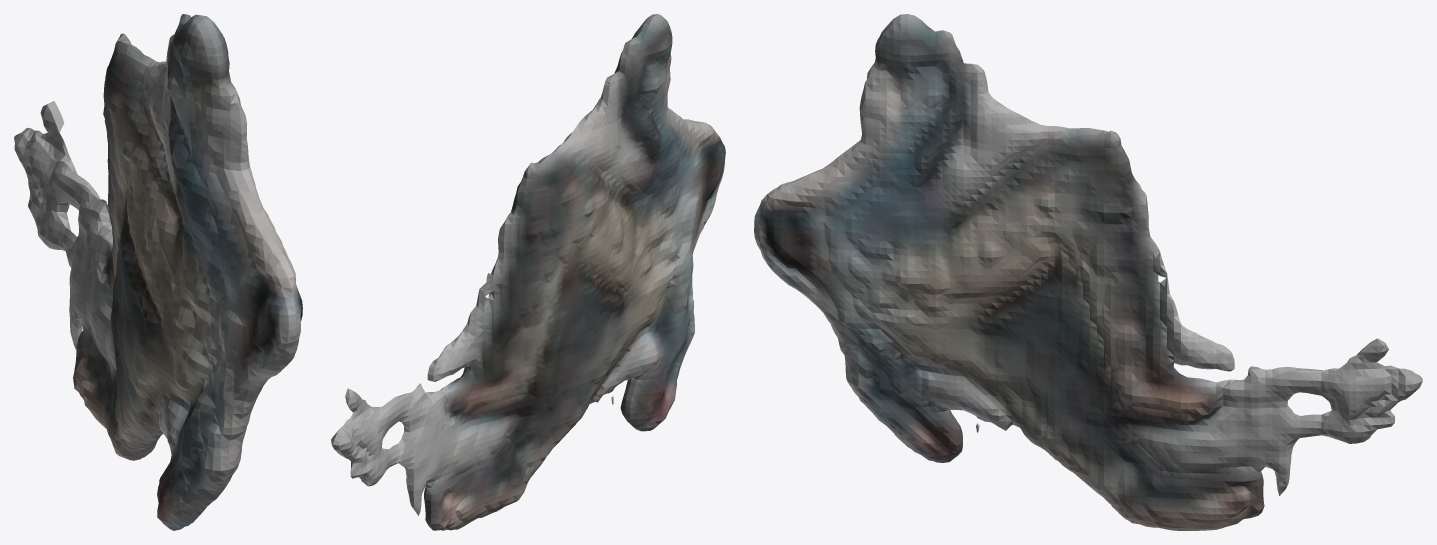
The picture shows the model from 3 angles, left to right: view 1: azimuth 30°, elevation 25°; view 2: azimuth 150°, elevation 25°; view 3: azimuth 270°, elevation 25°; orthographic projection. The views are drawn at different scales.
Visible parts, largest first — view 1: mesh.obj; view 2: mesh.obj; view 3: mesh.obj.
Part boxes in pixels (x1,y1,x2,y2): mesh.obj: (14,14,302,530); mesh.obj: (331,14,725,530); mesh.obj: (754,14,1422,530).
Bounding box in the file's own units: 0.1517 × 0.5174 × 0.6508.
